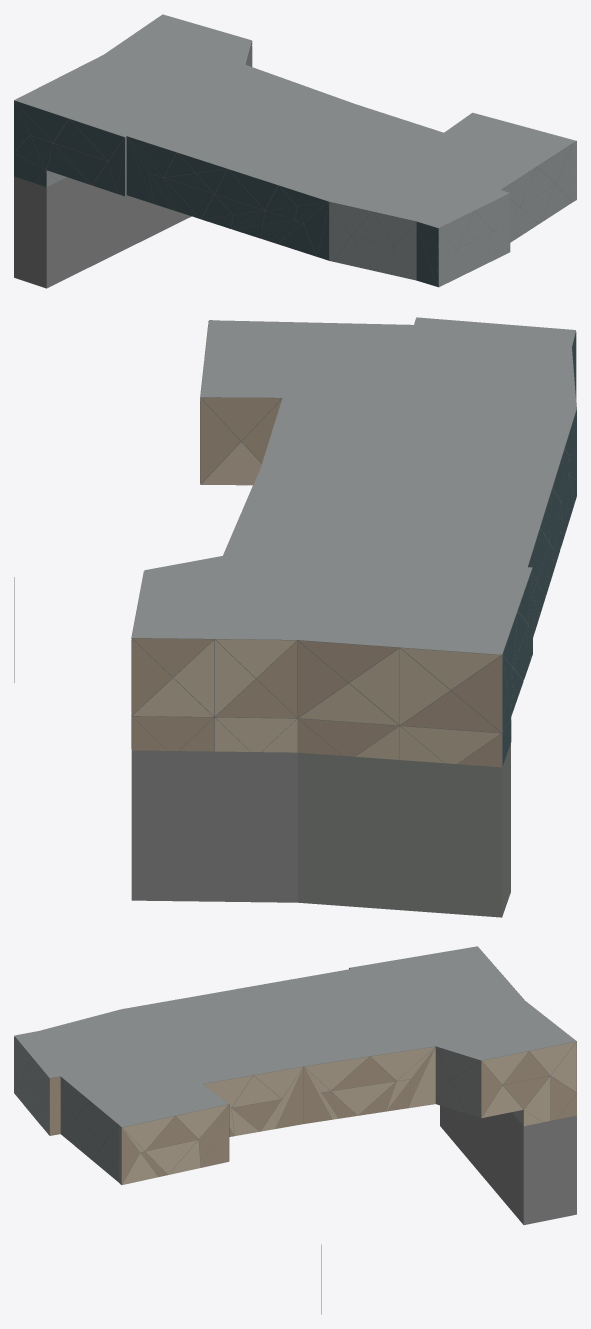
The model's file is federation-805929.glb.
3 views of the same model, one above another, from view 1: azimuth 30°, elevation 25°; view 2: azimuth 150°, elevation 25°; view 3: azimuth 270°, elevation 25° (orthographic). The views are drawn at different scales.
Visible parts, largest first — view 1: structure_805929_clean_envelope, federation_east_panels_3, federation_east_panels_2; view 2: structure_805929_clean_envelope, federation_east_panels_1, federation_east_panels_0, federation_east_panels_3; view 3: structure_805929_clean_envelope, federation_east_panels_0, federation_east_panels_1, federation_east_panels_2.
Boxes of the visible parts, box(x1,y1,x2,y2) form: structure_805929_clean_envelope: box(14, 14, 576, 288); federation_east_panels_3: box(14, 101, 438, 286); federation_east_panels_2: box(47, 41, 576, 286); structure_805929_clean_envelope: box(14, 317, 576, 917); federation_east_panels_1: box(131, 319, 501, 767); federation_east_panels_0: box(131, 321, 500, 763); federation_east_panels_3: box(502, 332, 576, 765); structure_805929_clean_envelope: box(14, 946, 576, 1314); federation_east_panels_0: box(122, 949, 576, 1184); federation_east_panels_1: box(50, 975, 576, 1184); federation_east_panels_2: box(14, 968, 523, 1184).
Bounding box in the file's own units: 50.73 × 21 × 61.84.
